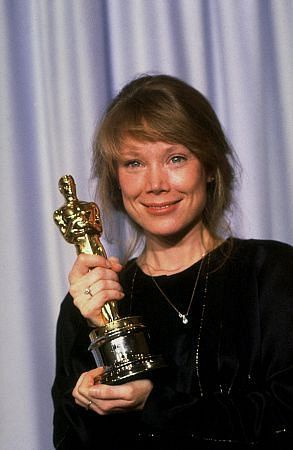hand: (74, 370, 156, 412)
